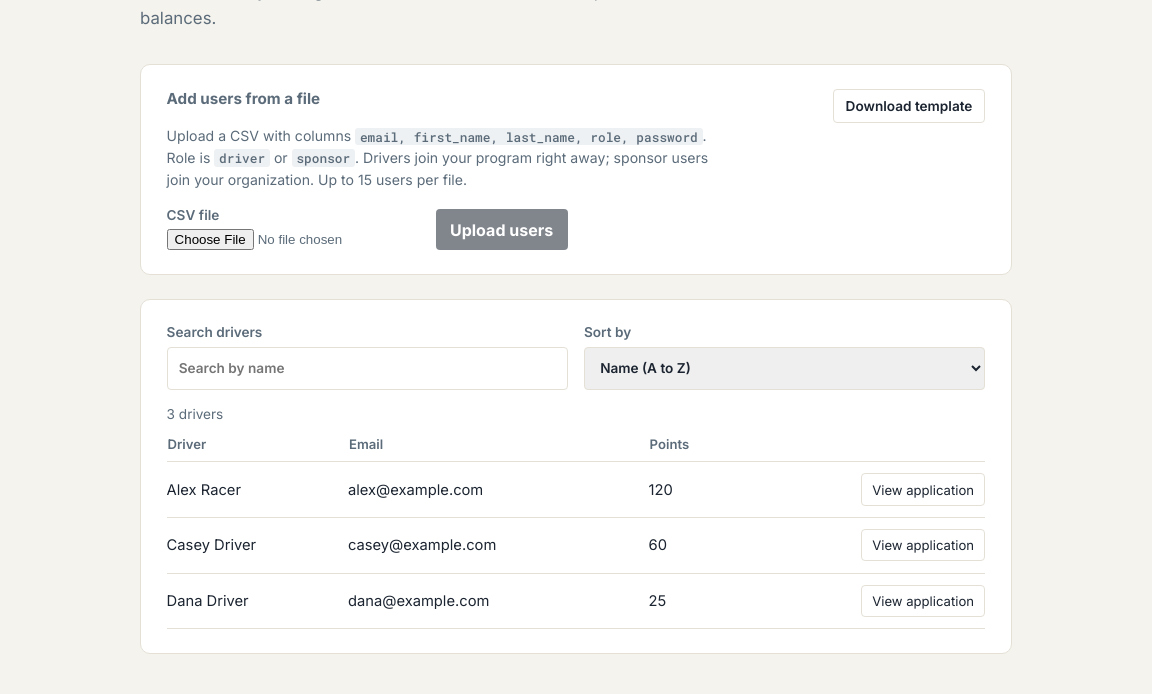
Test: shows point history for the selected driver on request
(page scrolled)
Click the button "View application" in the row of "Racer" at (923, 490), box [861, 473, 985, 506]
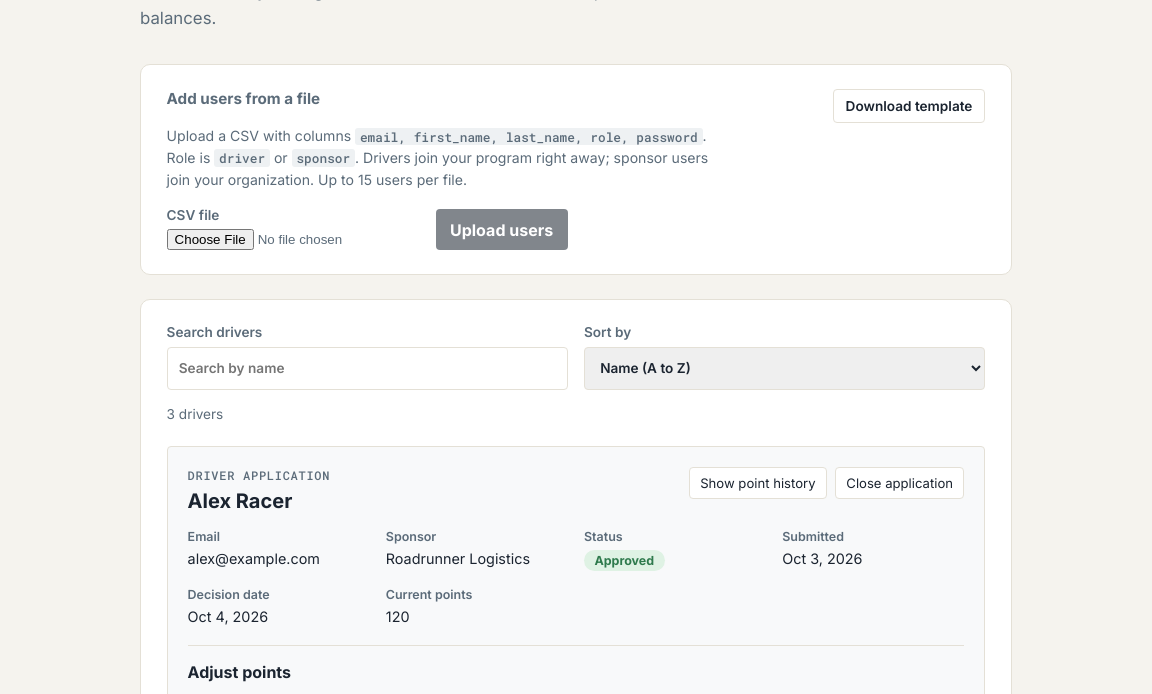
Click the button "Show point history" at (758, 483), box [689, 467, 827, 499]
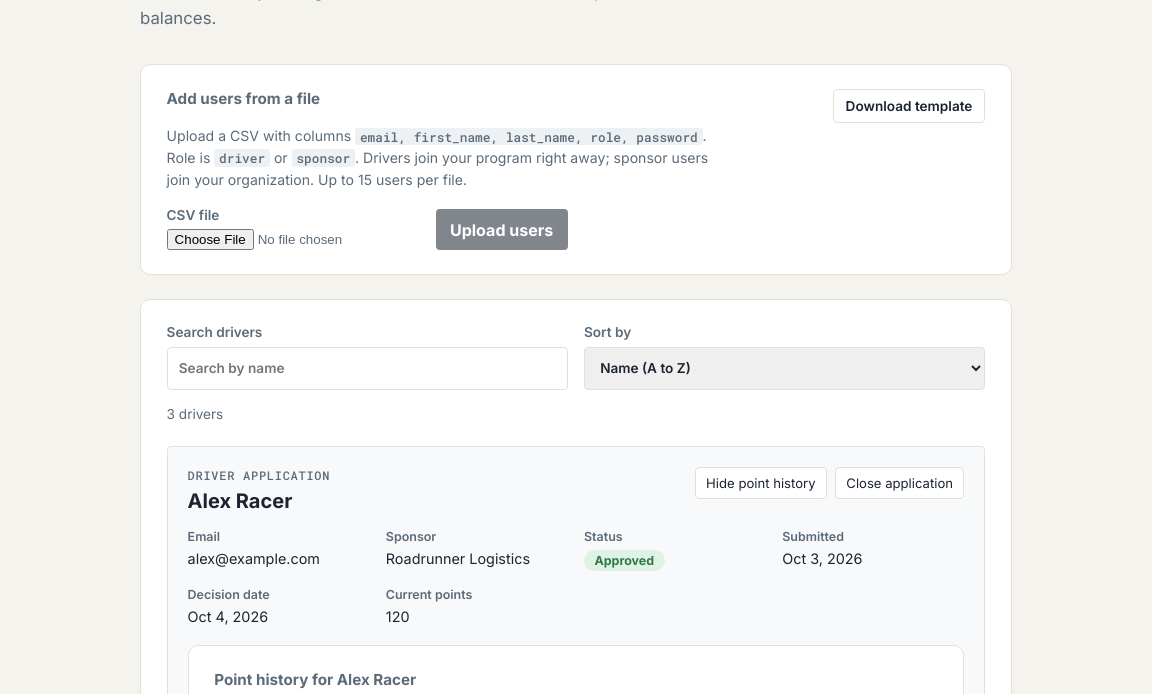
Click the button "Hide point history" at (761, 483), box [695, 467, 827, 499]
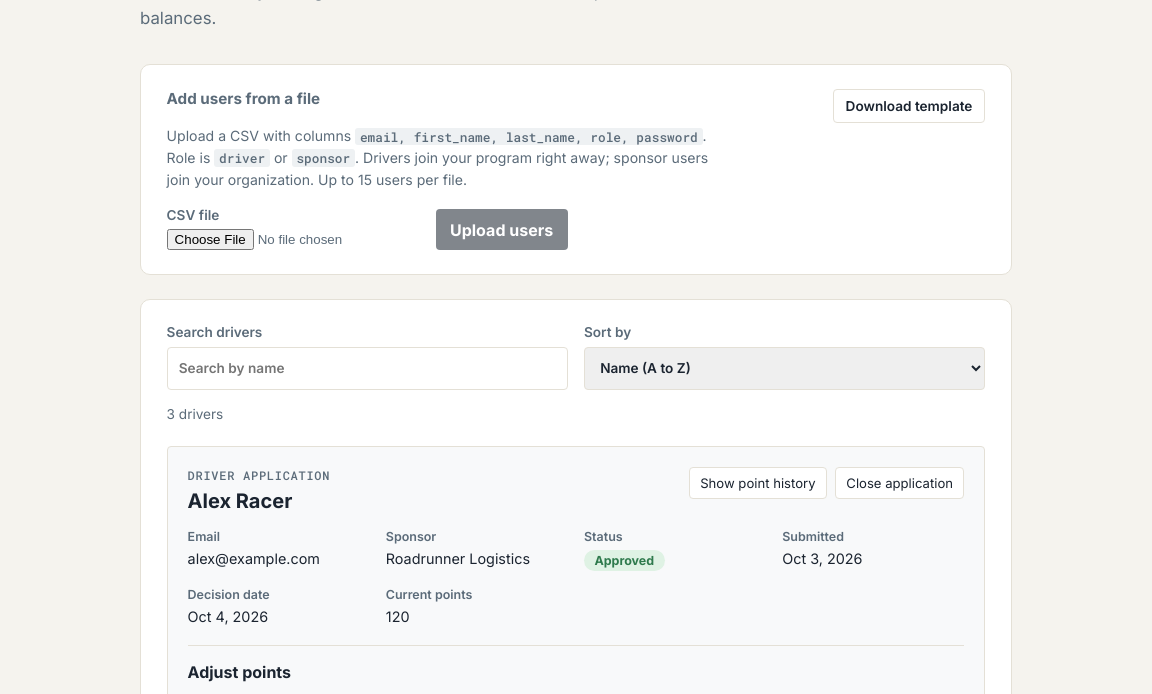
Now the heading "Point history for Alex Racer" is gone
